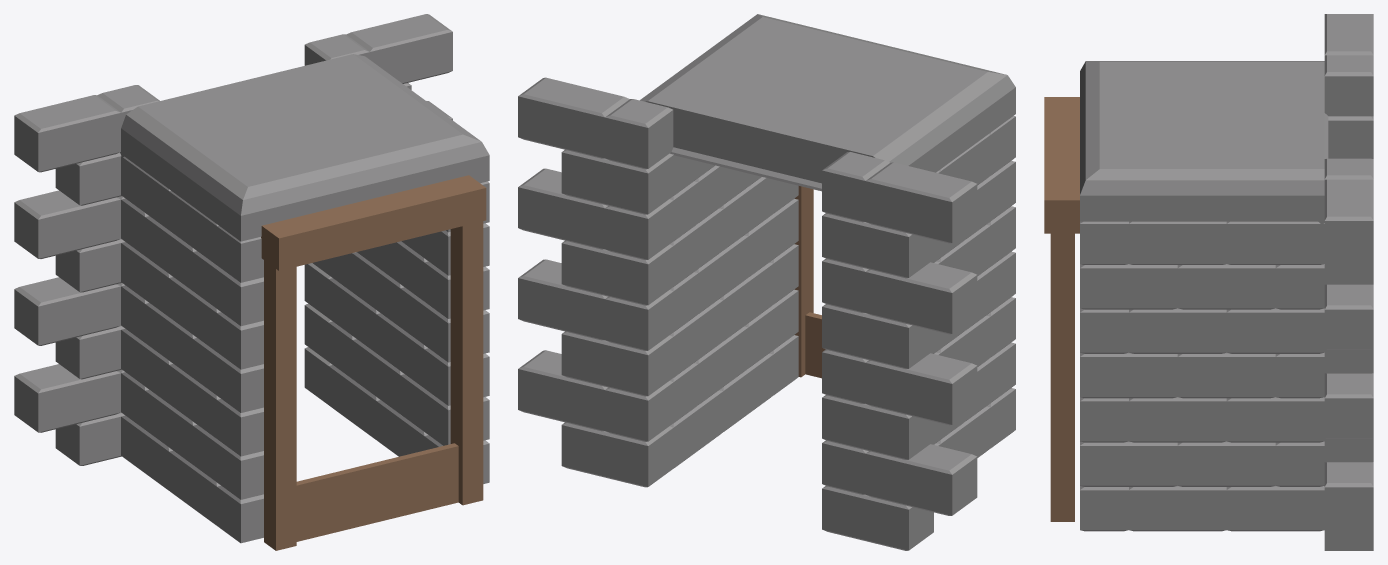
File: Bunker Entrance.fbx
3 renders of one model, left to right at view 1: azimuth 30°, elevation 25°; view 2: azimuth 150°, elevation 25°; view 3: azimuth 270°, elevation 25°, orthographic. The views are drawn at different scales.
Parts seen in each view (by area): view 1: Bunker Entrance; view 2: Bunker Entrance; view 3: Bunker Entrance.
Boxes of the visible parts, x1,y1,x2,y2 form: Bunker Entrance: [14, 14, 489, 550]; Bunker Entrance: [518, 14, 1015, 550]; Bunker Entrance: [1044, 14, 1373, 550].
Bounding box in the file's own units: 2000 × 1600 × 1345.
